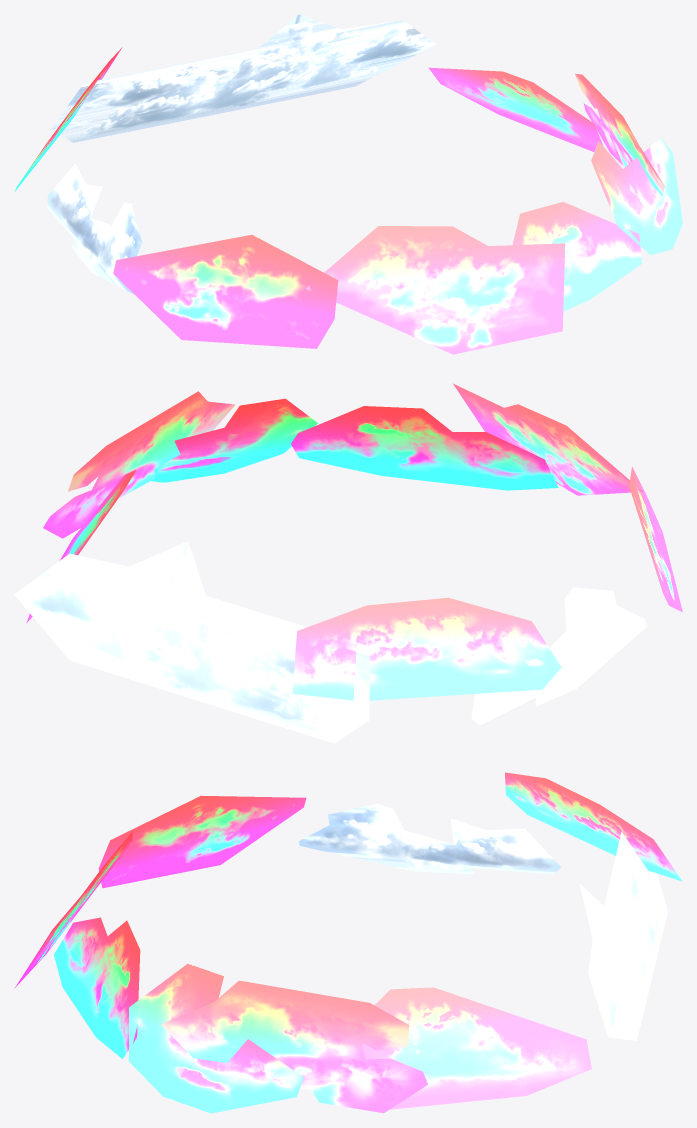
The model's file is SM_Clouds_Ring_01.fbx.
3 views of the same model, one above another, from view 1: azimuth 30°, elevation 25°; view 2: azimuth 150°, elevation 25°; view 3: azimuth 270°, elevation 25° (orthographic). The views are drawn at different scales.
Parts seen in each view (by area): view 1: SM_Clouds_Ring_01; view 2: SM_Clouds_Ring_01; view 3: SM_Clouds_Ring_01.
Boxes of the visible parts, left/top/right/bottom form: SM_Clouds_Ring_01: left=14, top=14, right=682, bottom=354; SM_Clouds_Ring_01: left=14, top=383, right=682, bottom=743; SM_Clouds_Ring_01: left=14, top=772, right=682, bottom=1113.
Size of the model in its own units: 382317 by 390770 by 84764.
